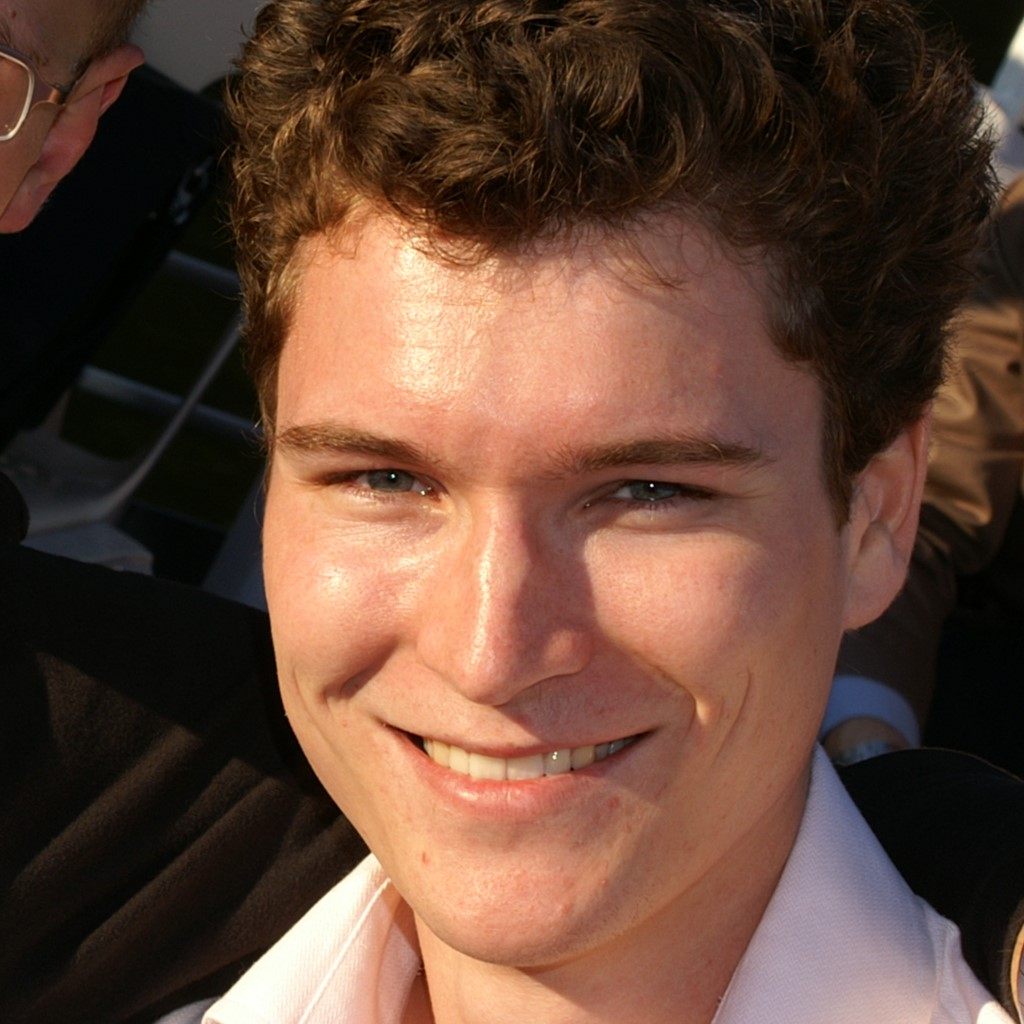sin_mascara: (249, 126, 859, 959)
